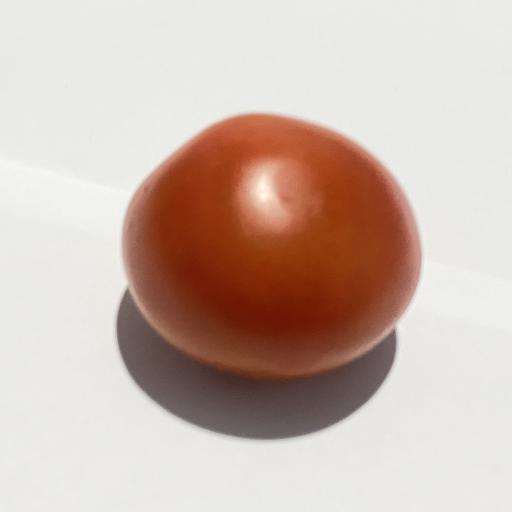ripe: (123, 114, 421, 378)
